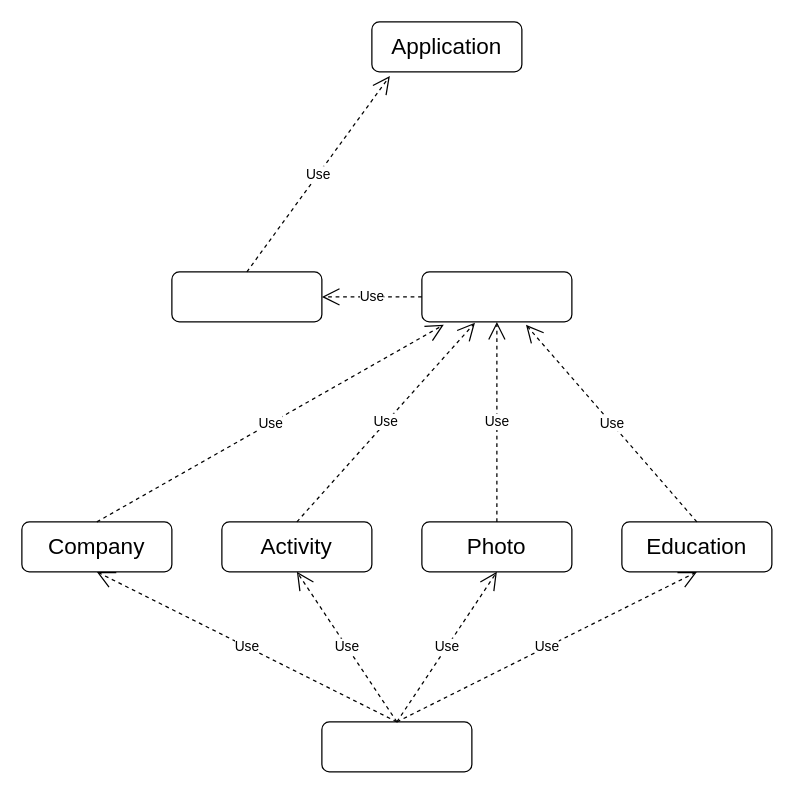
The diagram is 794 pixels wide and 794 high, and some of its shapes have lost their labels. Here are the shapes that lost their labels. From the top down, the box of each, then its label:
(171, 271, 322, 322): Decision
(421, 271, 572, 322): User
(321, 721, 472, 772): Frontpage
